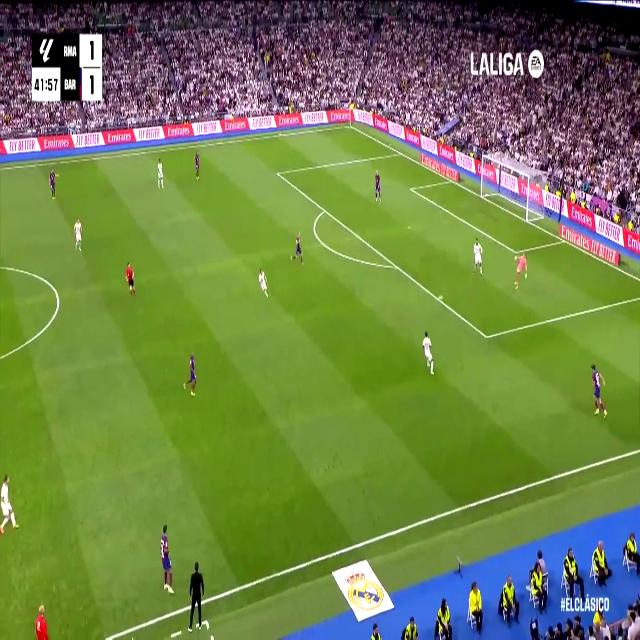bigarea_bottom_inner: (482, 326, 491, 348)
bigarea_top_inner: (275, 166, 281, 180)
bigarea_top_outter: (397, 147, 403, 157)
bottom_arc_area_intersection: (391, 258, 399, 274)
corner: (346, 121, 354, 130)
smallarea_top_inner: (408, 183, 414, 193)
top_arc_area_intersection: (322, 203, 328, 216)
